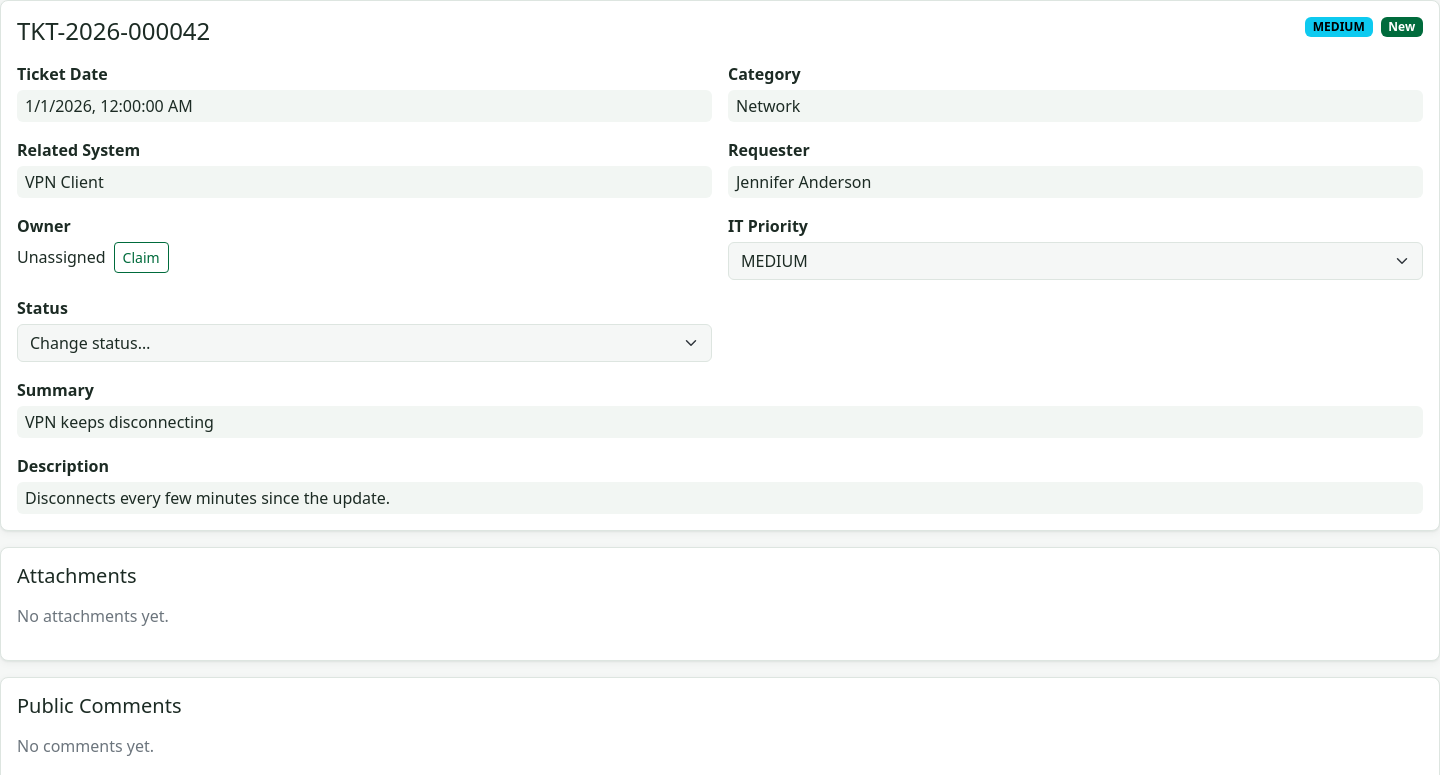
Scenario: StaffTicketDetail › sets IT Priority independently of Requested Priority and shows a success message (FR-11)
Expected: the heading "TKT-2026-000042" is shown, top-left (17, 17), bottom-right (210, 46)
Select "URGENT" in the dropdown labelled "IT Priority": (1076, 261) top-left (728, 242), bottom-right (1423, 280)
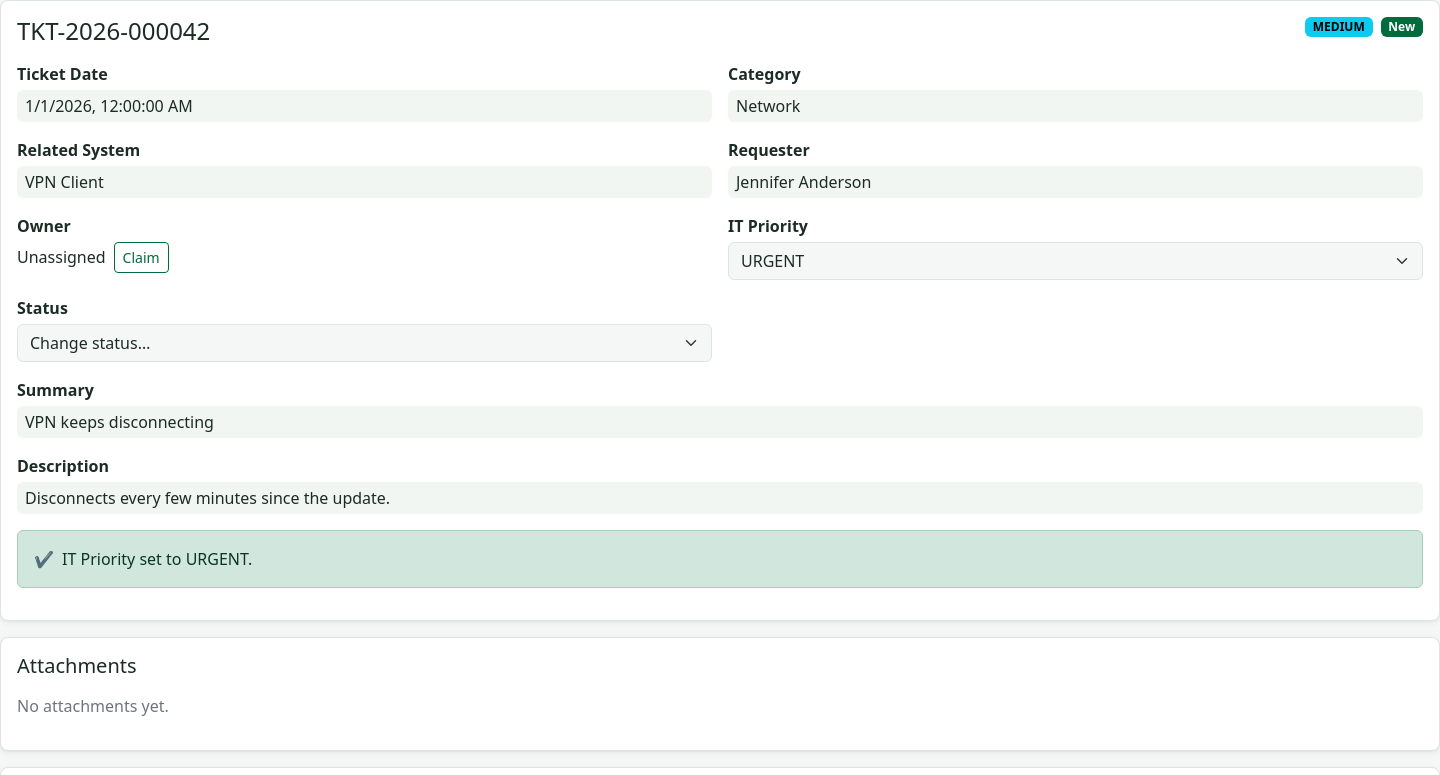
Now the text "IT Priority set to URGENT." is shown, box top-left (62, 547), bottom-right (252, 571)
